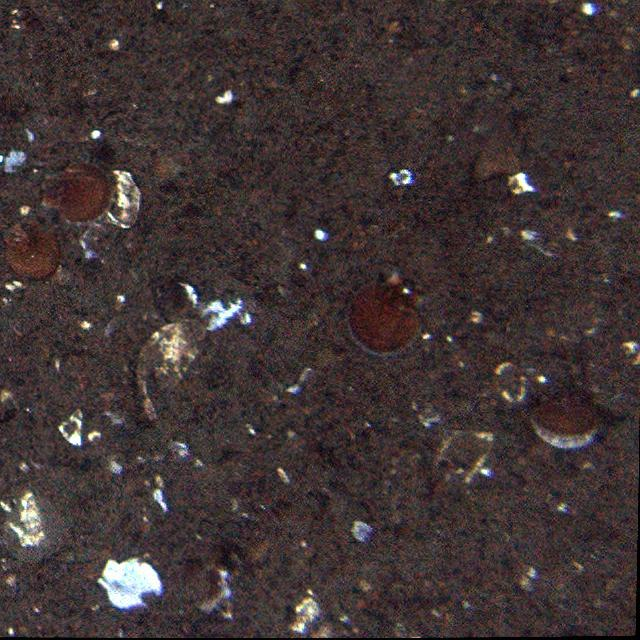scallop: (347, 274, 422, 354), (39, 164, 112, 220)
